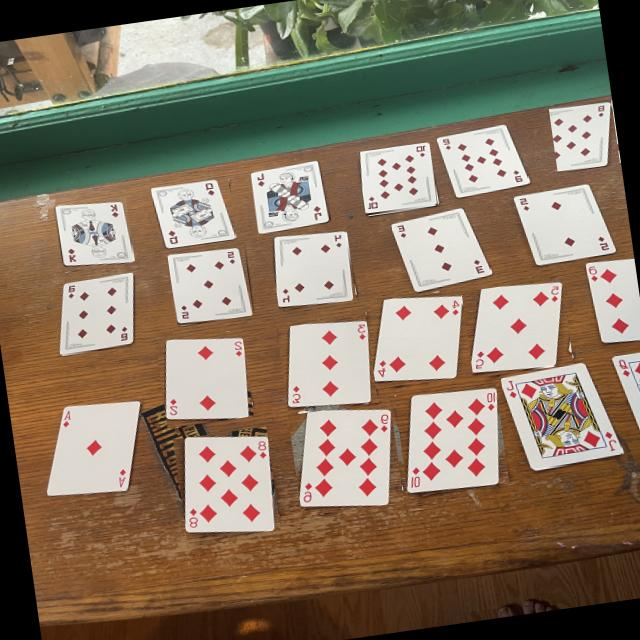10 of diamonds: (407, 389, 499, 494), (361, 144, 438, 215)
2 of diamonds: (514, 184, 616, 265), (166, 338, 249, 419)
3 of diamonds: (392, 208, 491, 292), (288, 322, 372, 408)
4 of diamonds: (375, 295, 464, 381), (275, 231, 355, 307)
5 of diamonds: (471, 283, 563, 374), (168, 248, 253, 323)
6 of diamonds: (59, 273, 134, 355), (587, 259, 640, 343)
8 of diamonds: (184, 436, 275, 533), (550, 101, 613, 172)
9 of diamonds: (299, 409, 392, 507), (437, 125, 529, 198)
Ace of diamonds: (47, 401, 141, 496)
Jack of diamonds: (502, 364, 623, 470), (252, 162, 330, 233)
King of diamonds: (56, 202, 134, 267)
Queen of diamonds: (152, 179, 236, 249), (612, 352, 640, 431)
